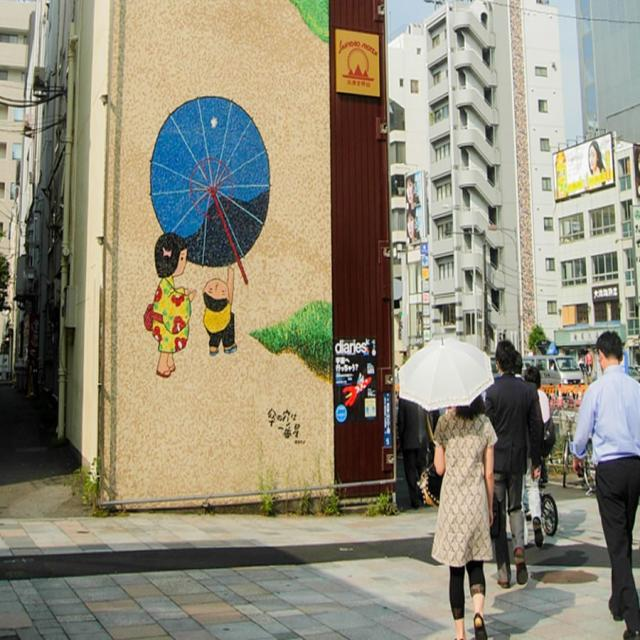body: (570, 326, 639, 639), (430, 393, 499, 640), (480, 337, 545, 590), (480, 505, 593, 640), (142, 230, 240, 380), (512, 349, 544, 549), (520, 363, 556, 523), (396, 397, 430, 509), (403, 179, 422, 244), (584, 138, 606, 188), (579, 347, 593, 375)
